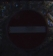No entry: (6, 6, 48, 51)
